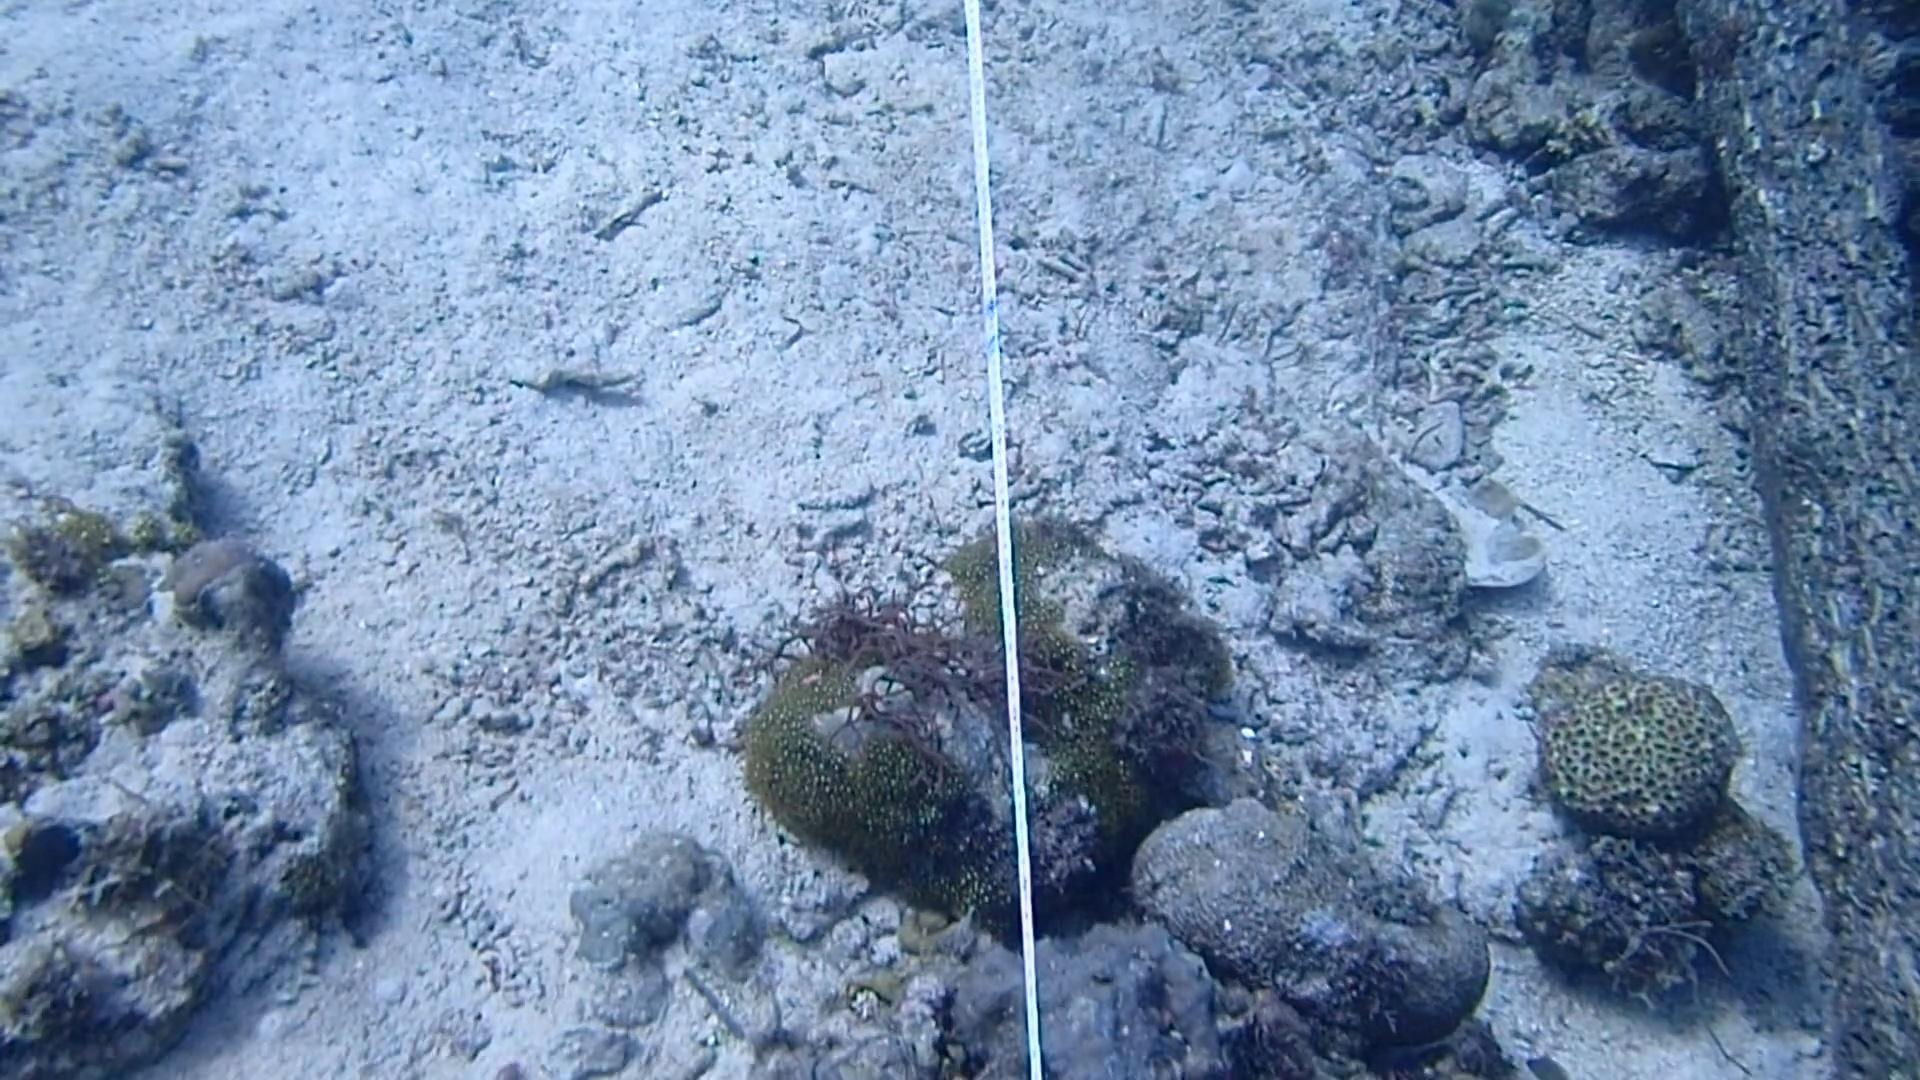UI: (1522, 1051, 1572, 1080)
